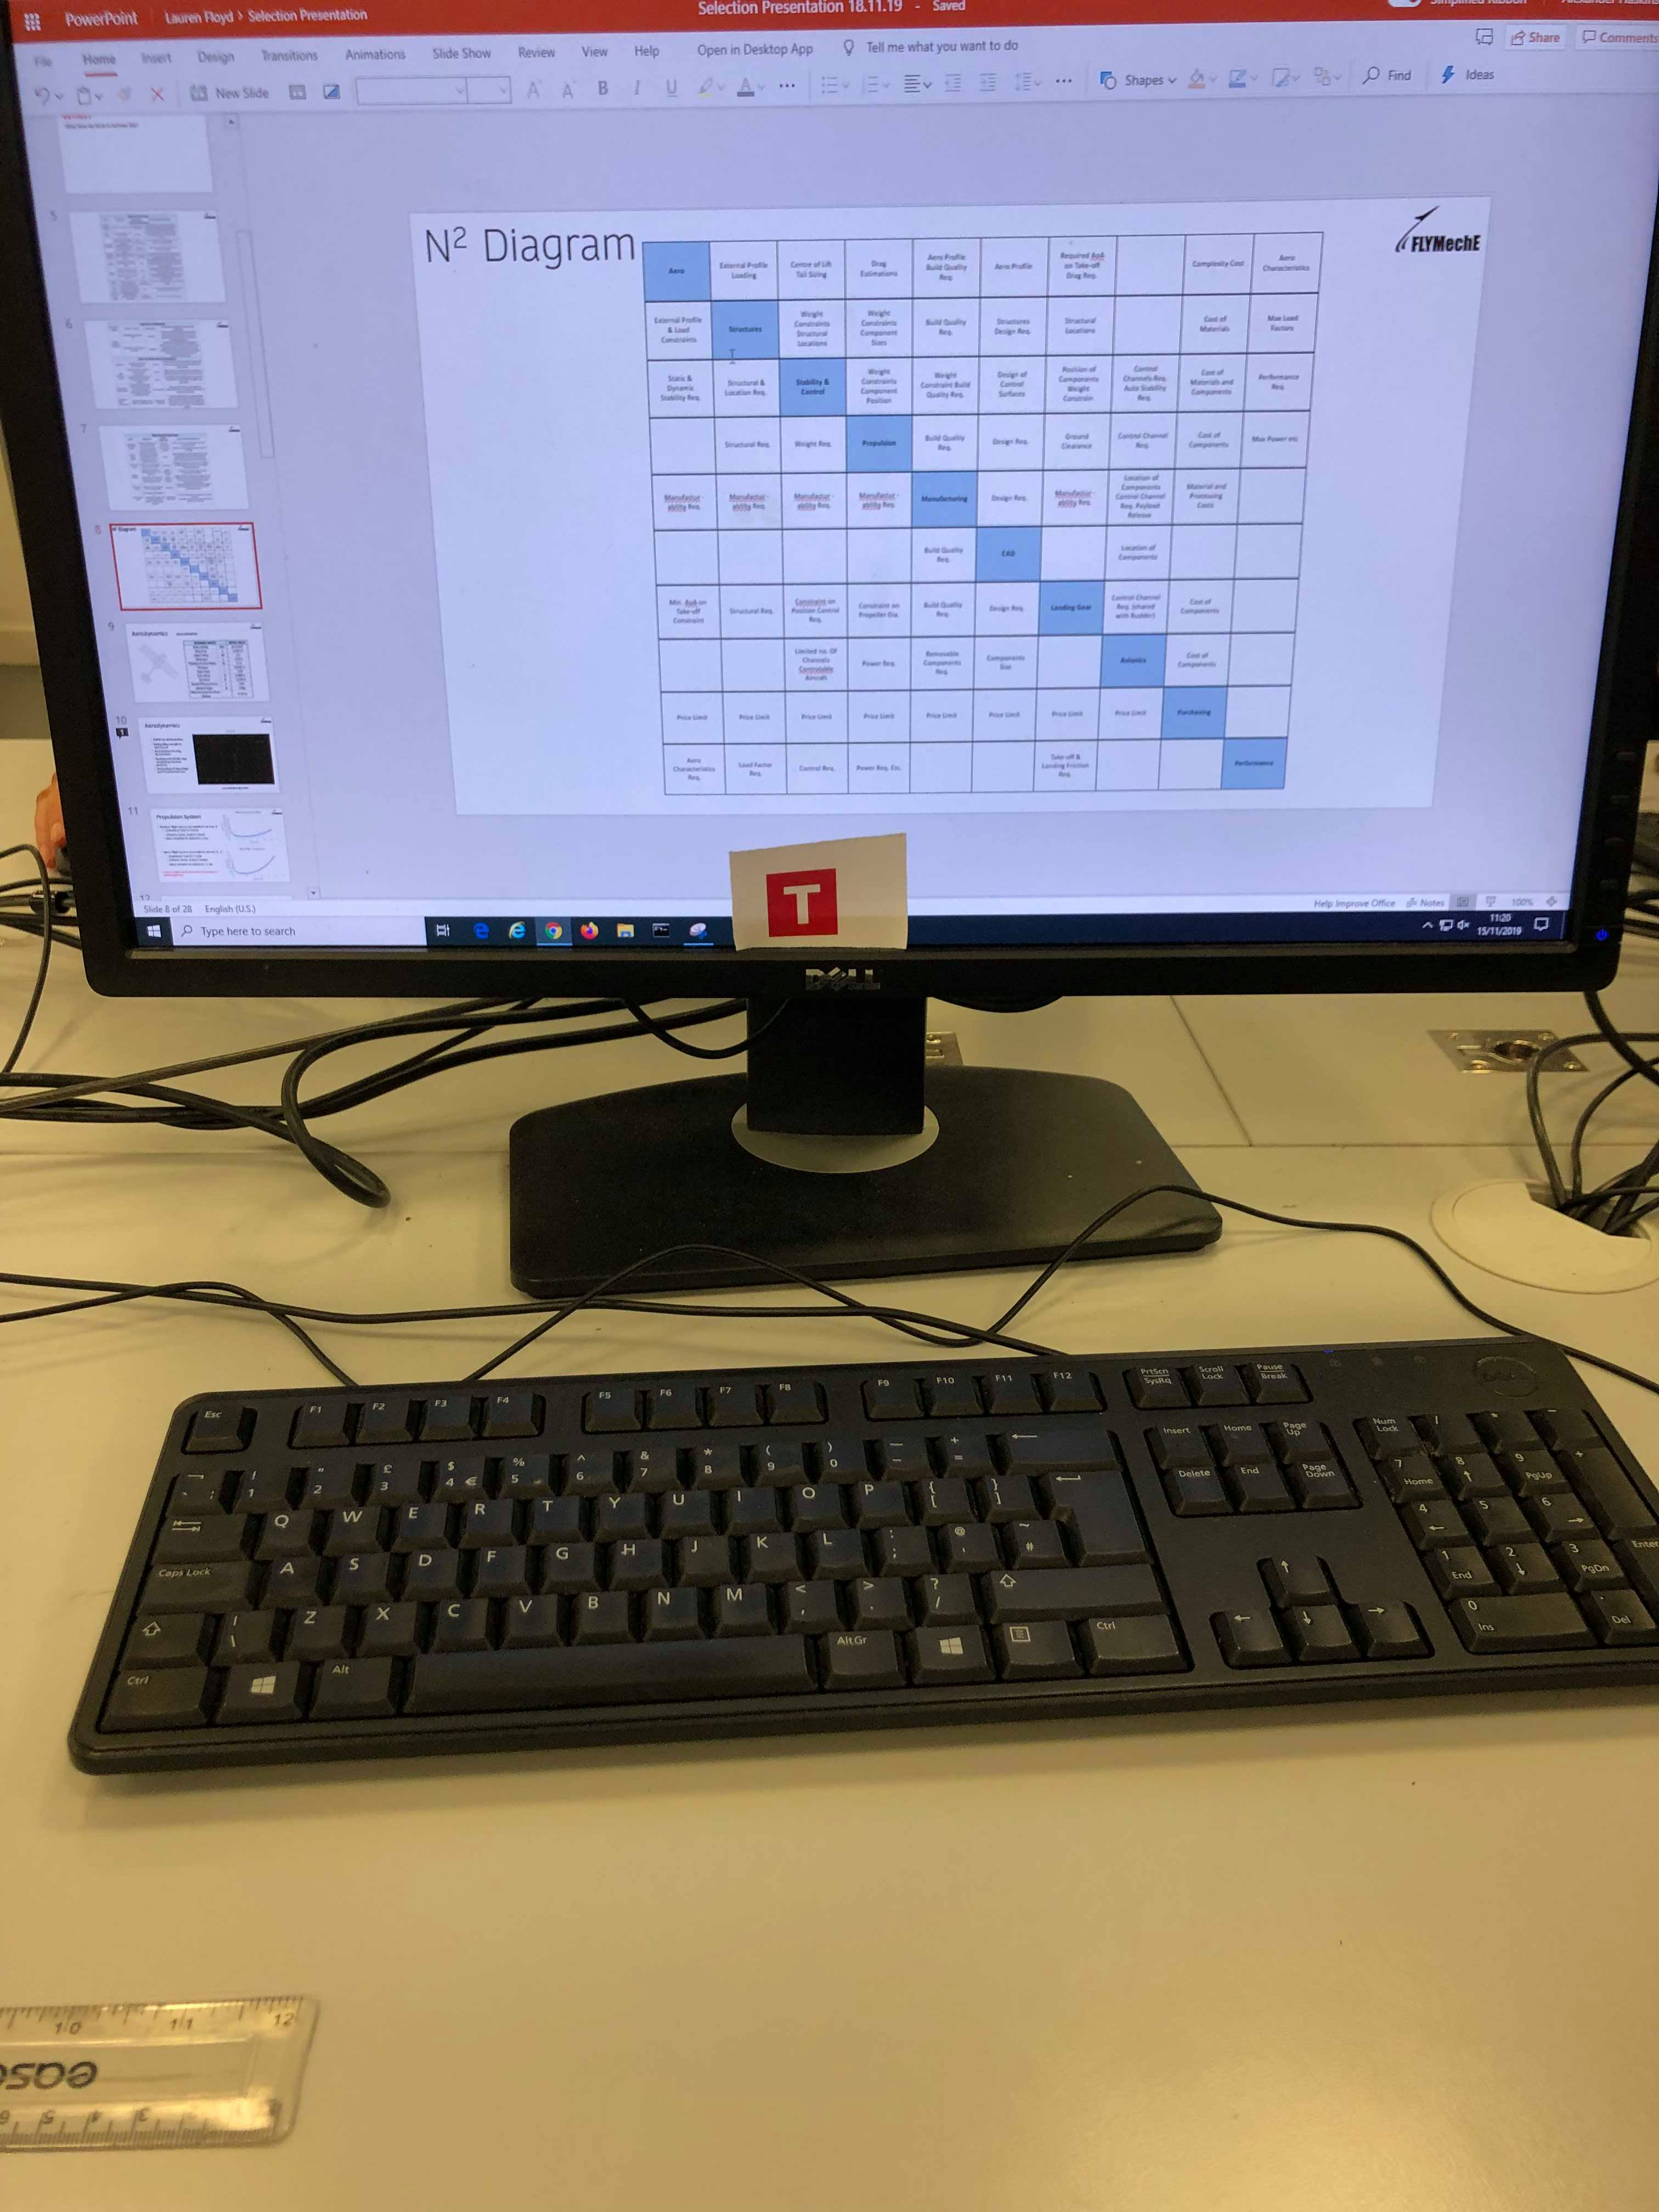marker: (744, 841, 897, 948)
